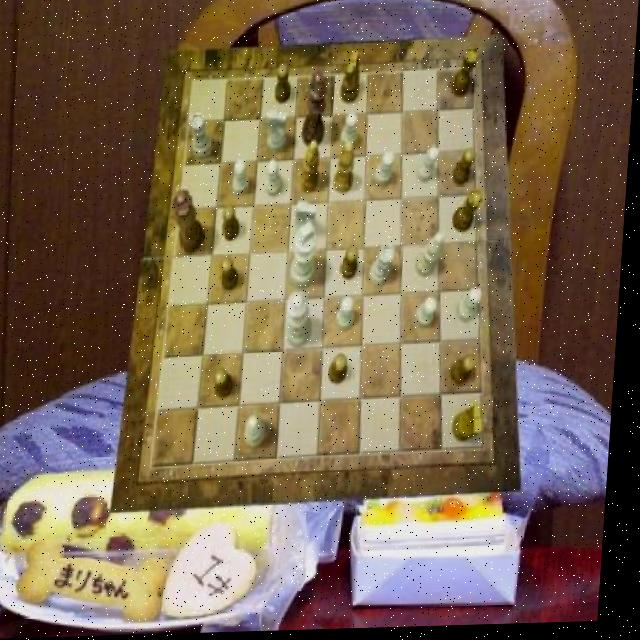bishop: (335, 144, 358, 197), (302, 143, 324, 194)
black-bishop: (302, 72, 330, 151)
black-king: (458, 407, 490, 445), (342, 53, 362, 106)
black-knight: (454, 150, 479, 188), (456, 357, 482, 389), (223, 258, 245, 293), (217, 369, 240, 401), (276, 66, 294, 106), (226, 207, 245, 243), (345, 246, 364, 281), (333, 356, 352, 387)
black-pawn: (174, 190, 211, 255)
black-queen: (453, 50, 480, 100), (455, 191, 486, 234)
black-rook: (419, 235, 448, 280), (250, 416, 272, 451)
white-bishop: (294, 225, 322, 291)
white-king: (269, 111, 291, 154), (297, 203, 320, 244)
white-knight: (461, 290, 487, 325), (419, 148, 443, 185), (376, 154, 397, 189), (419, 300, 442, 331), (268, 161, 287, 198), (342, 116, 361, 151), (235, 160, 253, 196), (341, 299, 360, 333)
white-pawn: (289, 292, 319, 351)
white-queen: (190, 113, 216, 159), (372, 247, 398, 289)
